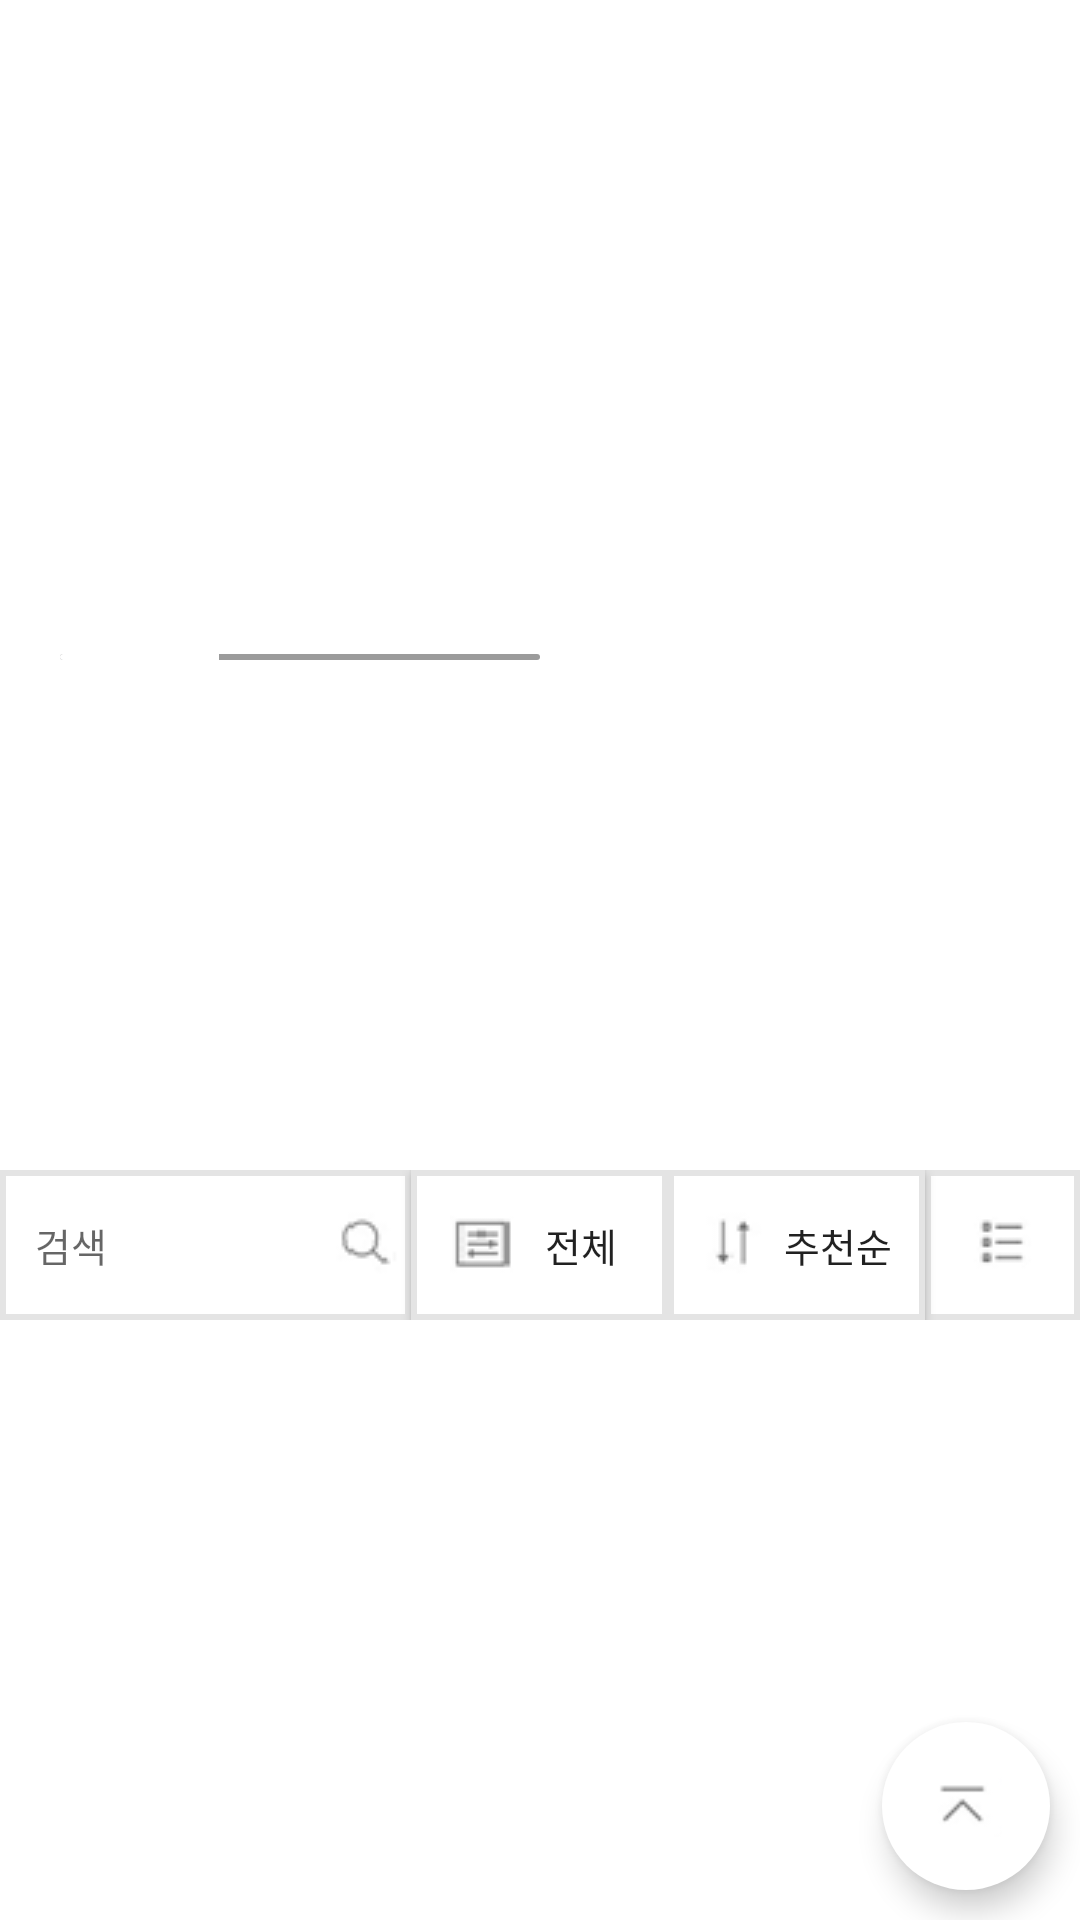

Where to tap for icons on this 1080×1920 app screen, as (x=x, y=y):
smalllist: (x=1002, y=1245)
